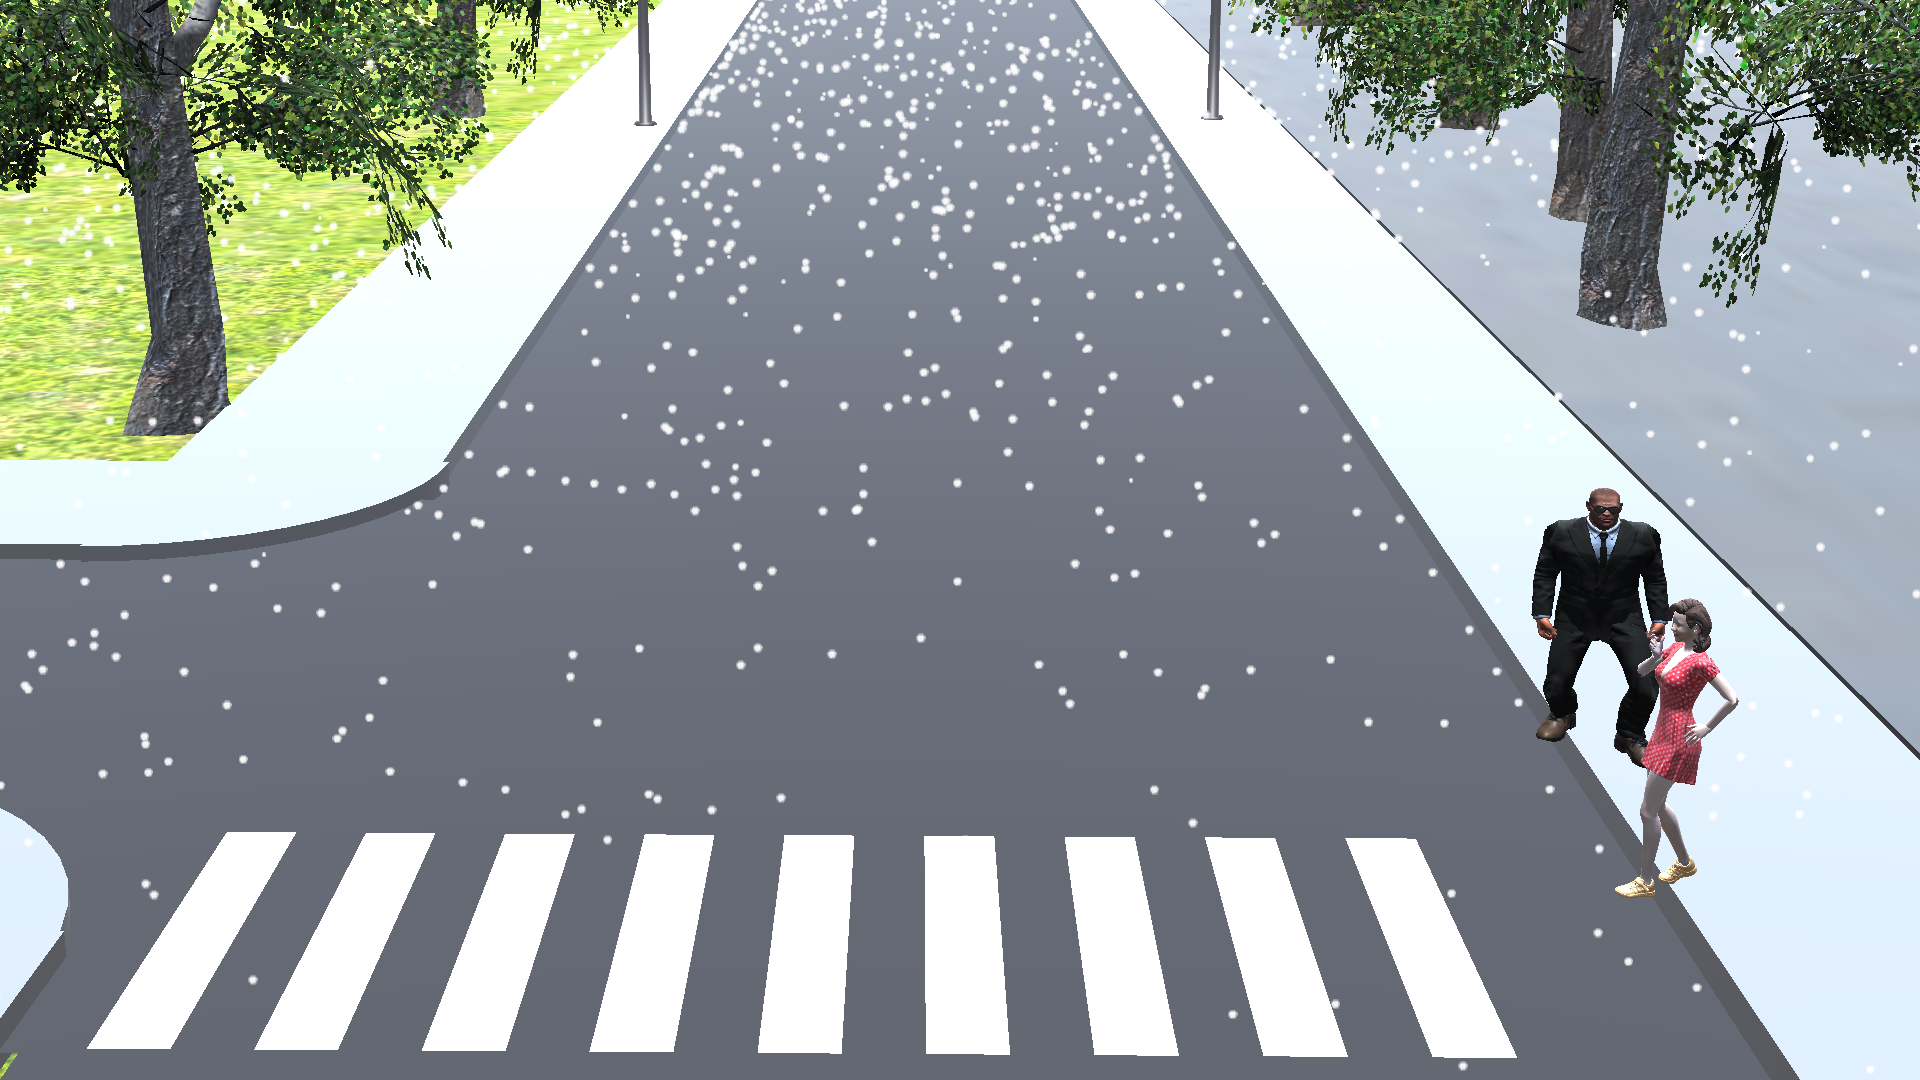pedestrian: (1610, 593, 1750, 913), (1519, 482, 1650, 768)
